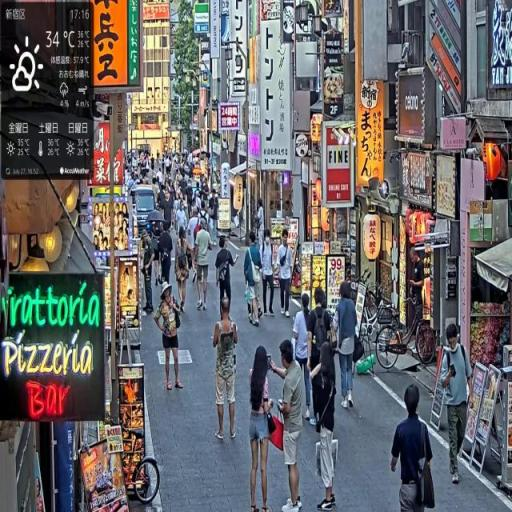person: (269, 338, 307, 511), (438, 322, 475, 488), (390, 383, 437, 512), (248, 343, 283, 512), (311, 339, 337, 512), (213, 296, 240, 443), (335, 281, 360, 414), (156, 283, 185, 392), (293, 292, 314, 422), (244, 232, 266, 328), (194, 219, 213, 312), (260, 229, 278, 319), (277, 229, 295, 318), (217, 235, 236, 317), (176, 233, 193, 314), (141, 229, 156, 316)
